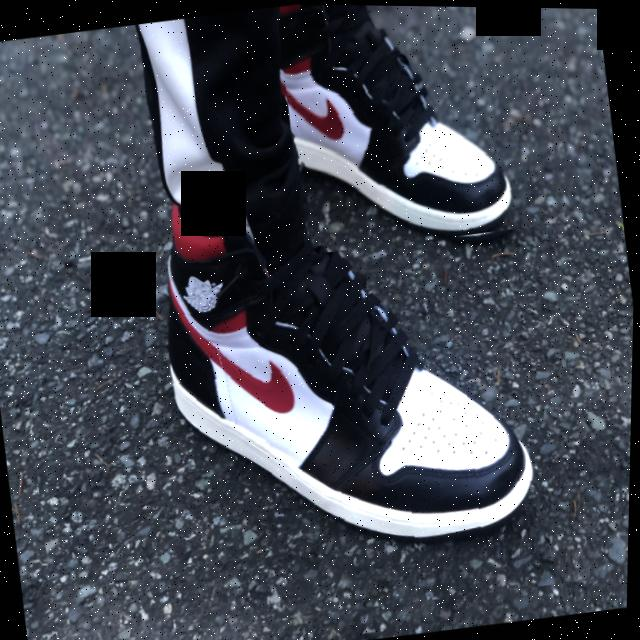shoe: (2, 156, 604, 640), (274, 3, 583, 257)
